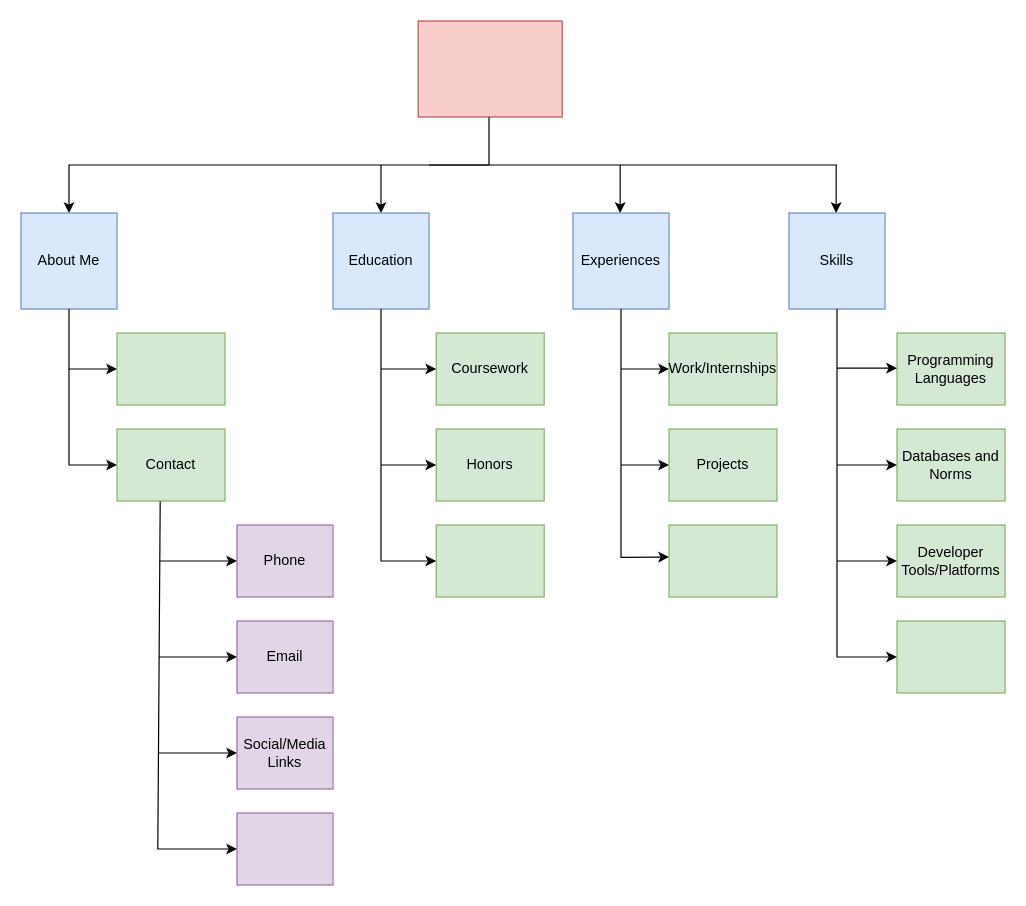
The diagram is 1026 pixels wide and 906 high, and some of its shapes have lost their labels. Each missing label, with the box of its shape:
Bio: (116, 332, 225, 405)
Certificates: (668, 524, 777, 597)
Extracurriculars: (435, 524, 544, 597)
Home: (417, 20, 562, 117)
PDF Resume: (236, 812, 333, 885)
Soft Skills: (896, 620, 1005, 693)
